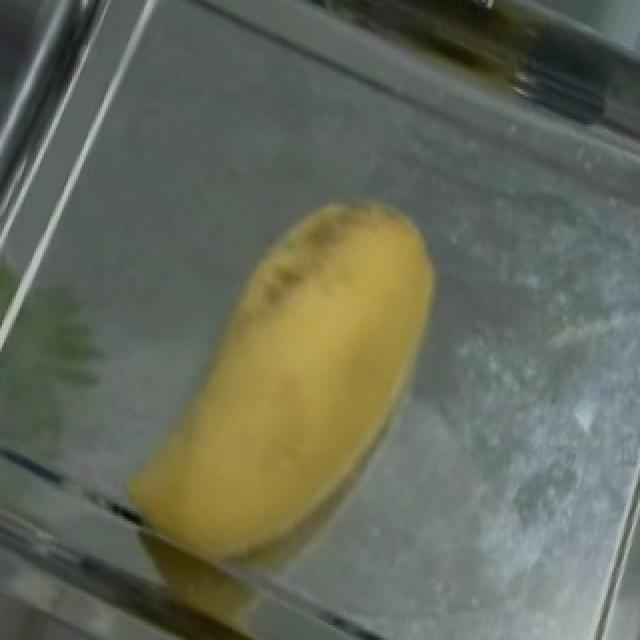fruit: (140, 142, 512, 548)
